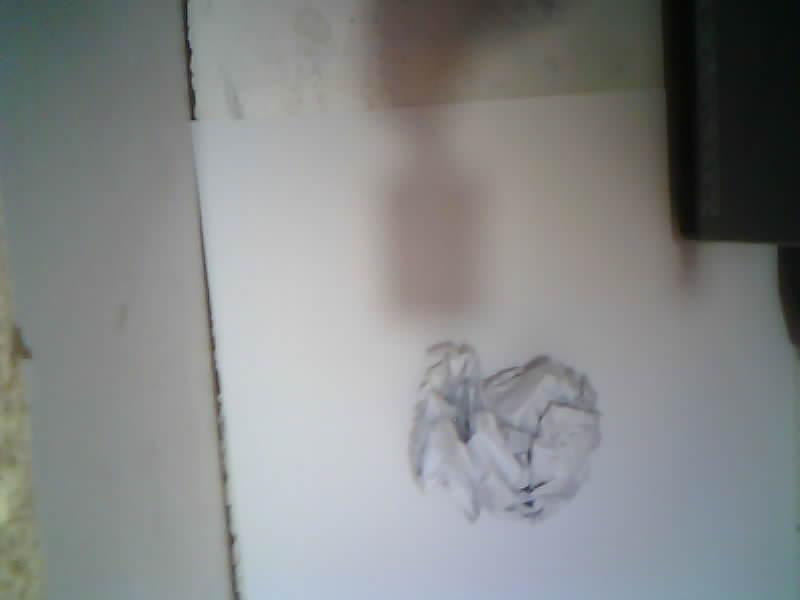biodegradable: (409, 342, 600, 522)
